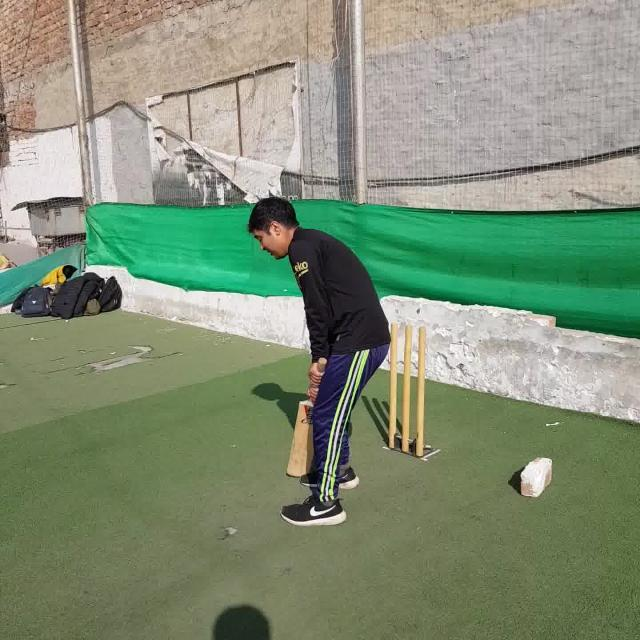bat: (287, 357, 327, 478)
